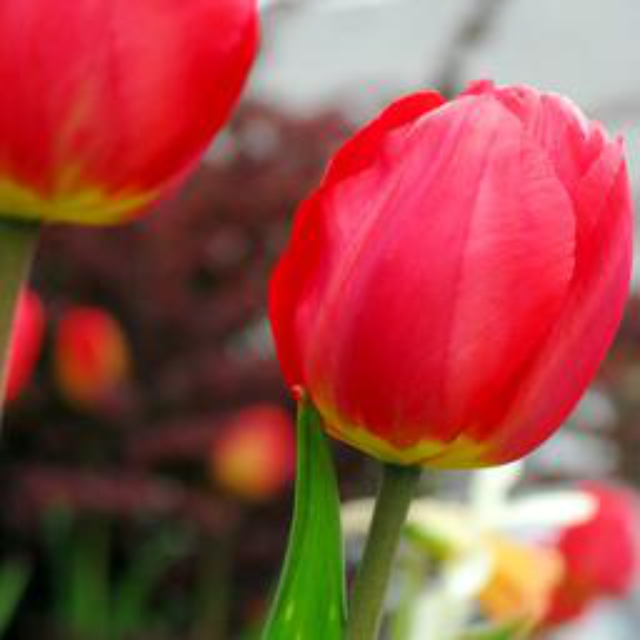tulip: (264, 76, 635, 502), (2, 2, 264, 260)
